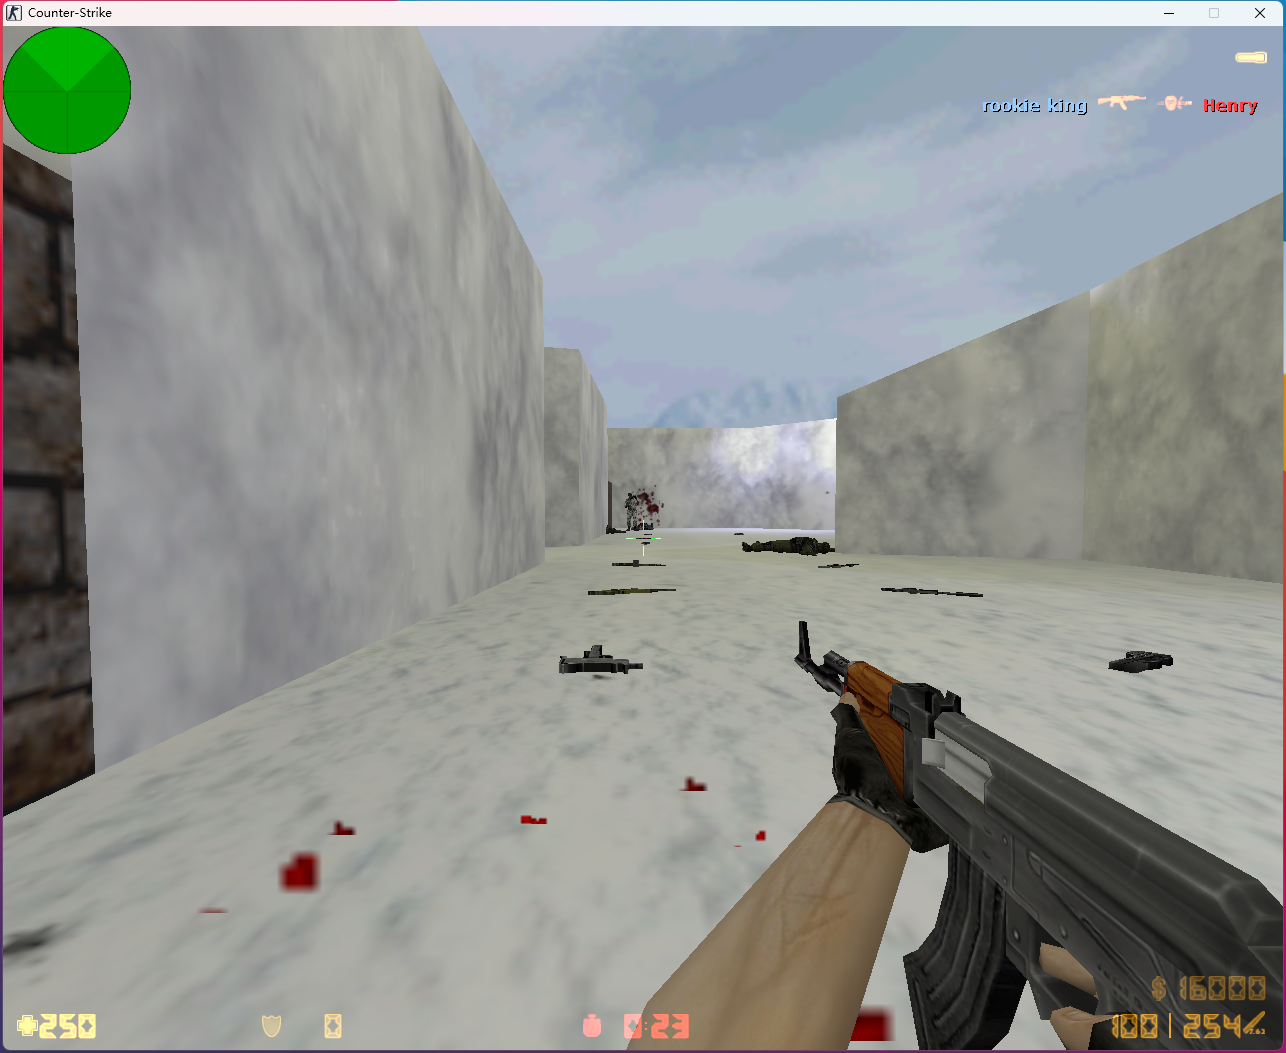T: (625, 490, 639, 530)
dead: (732, 534, 831, 557)
weapon: (558, 645, 648, 677), (875, 582, 984, 602), (1105, 647, 1175, 674), (586, 583, 678, 600), (608, 559, 670, 572), (815, 563, 861, 571)
